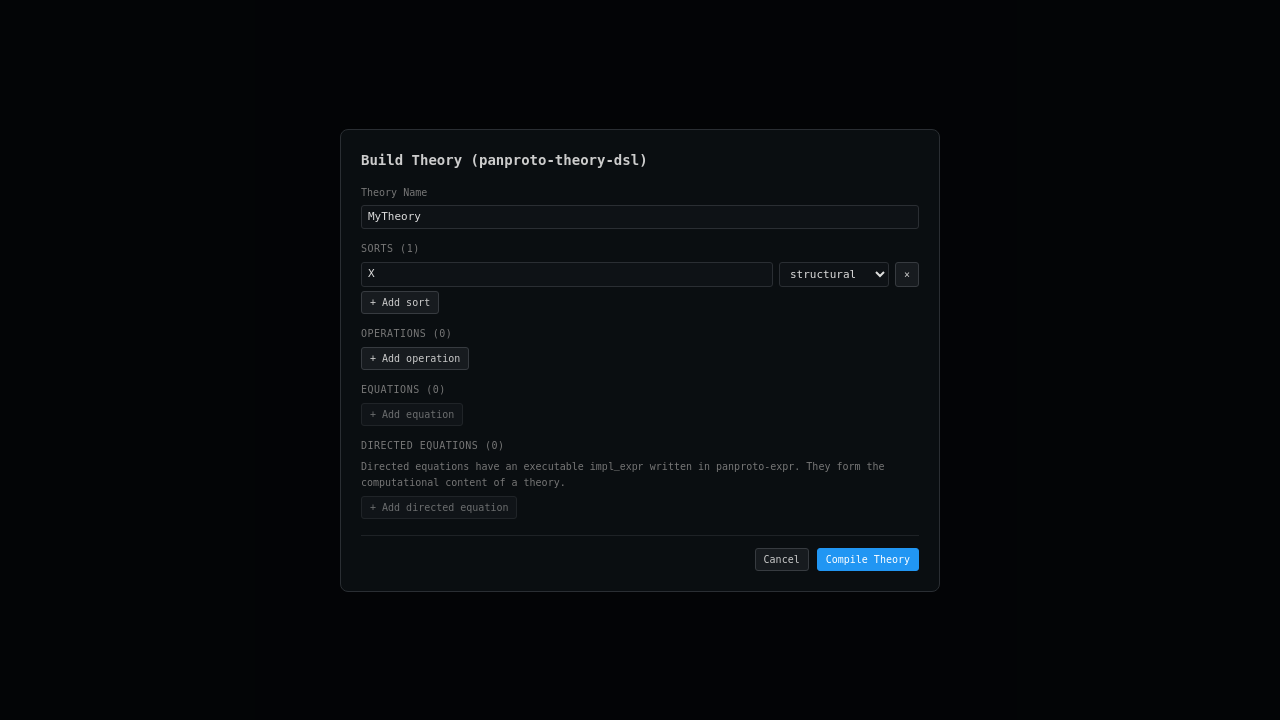
Test: TheoryEditor › add operation button adds a row with name, signature fields
The width and height of the screenshot is (1280, 720).
Replace the text in the 2nd field with placeholder "name" with "S" at (567, 274), box [361,262,773,286]
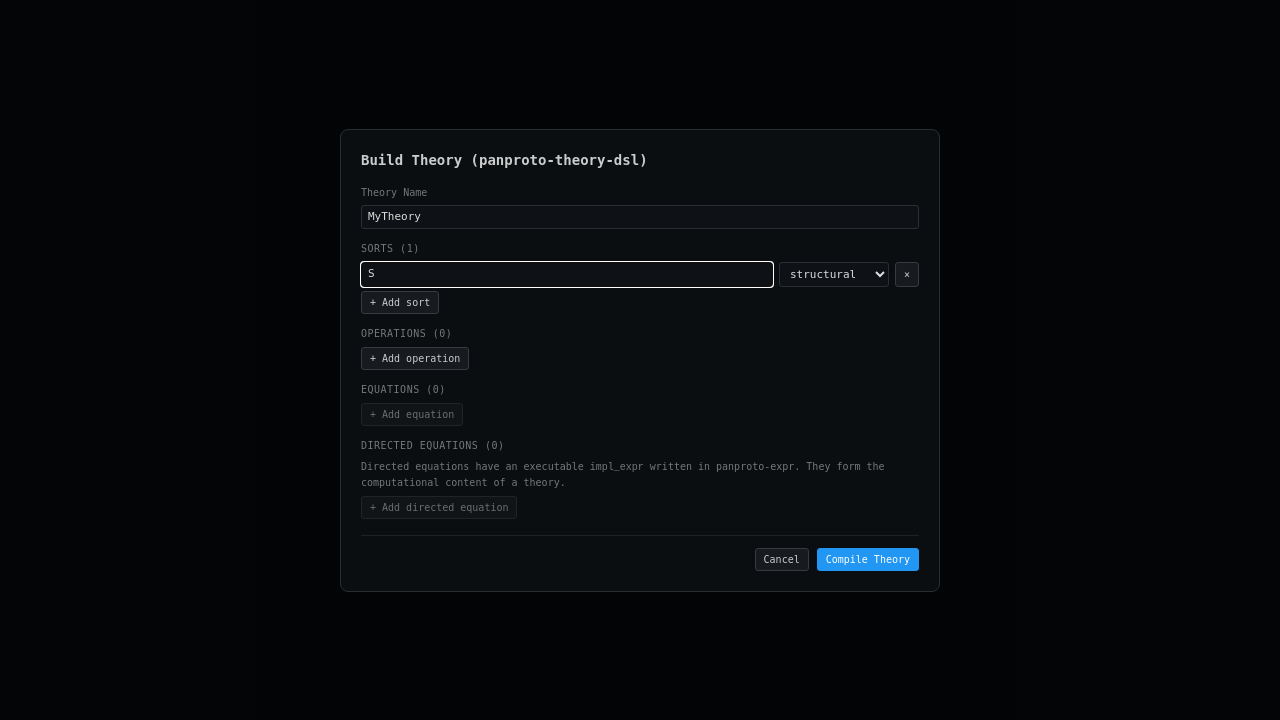
Click the button "+ Add operation" at (415, 358), box [361,346,469,370]
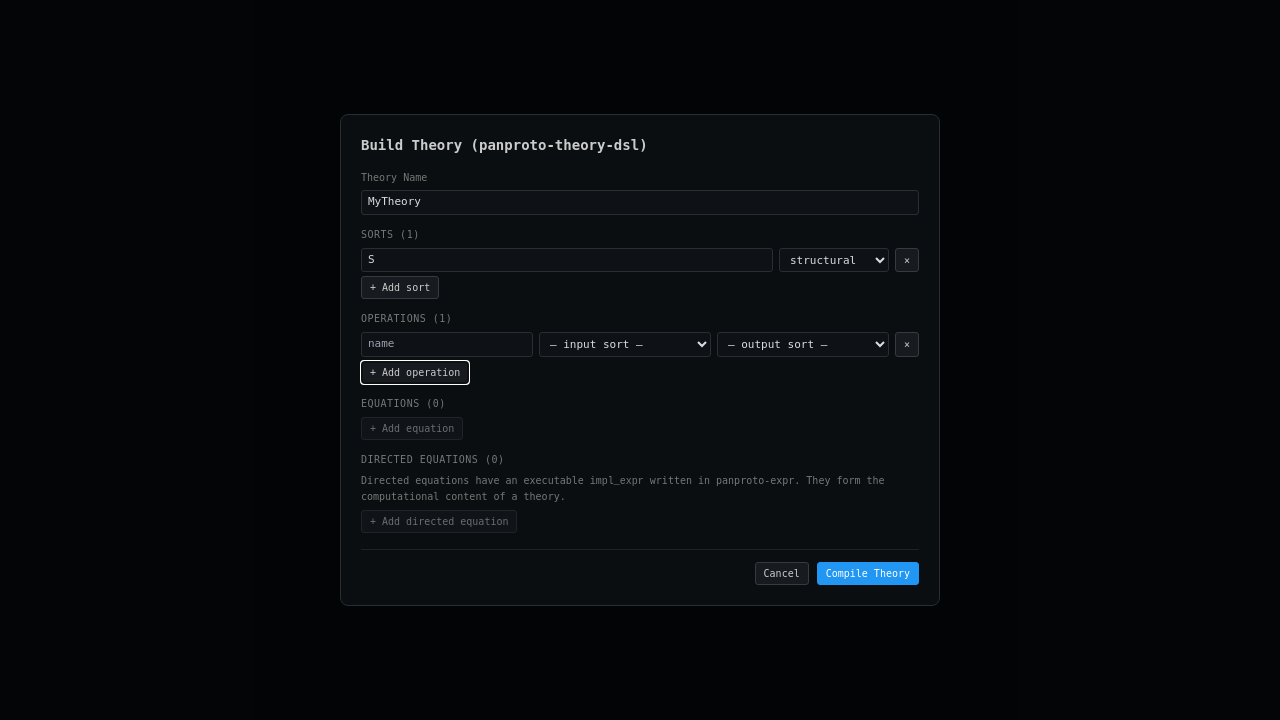
Result: the text "Operations (1)" is shown at [361,313,452,324]
Result: the number of fields with placeholder "name" is 2 at [361,248,773,272]; [361,332,533,357]
